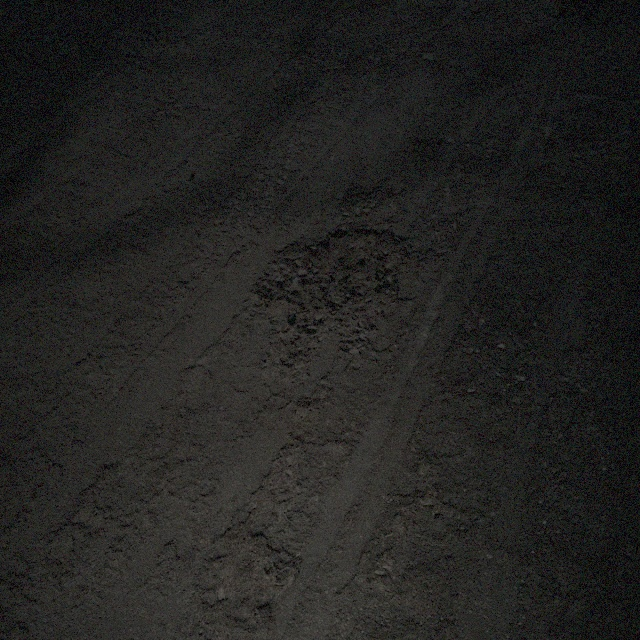pothole: (239, 222, 417, 356), (337, 182, 394, 220)
